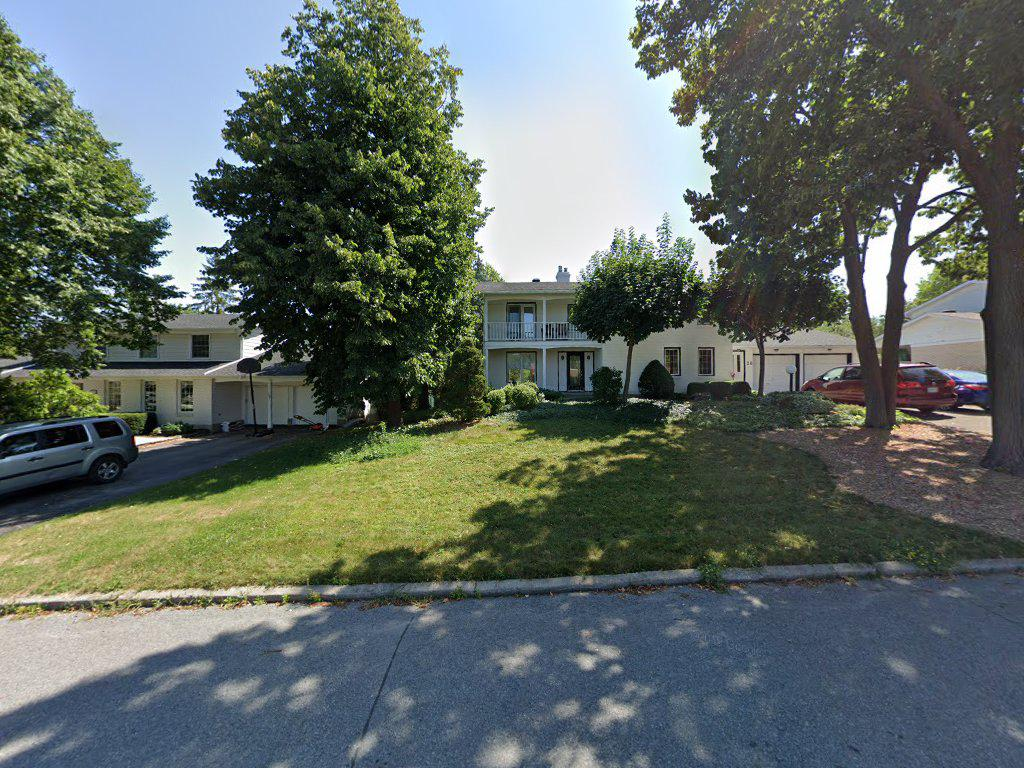trunk: (970, 165, 1023, 482), (848, 275, 911, 453)
